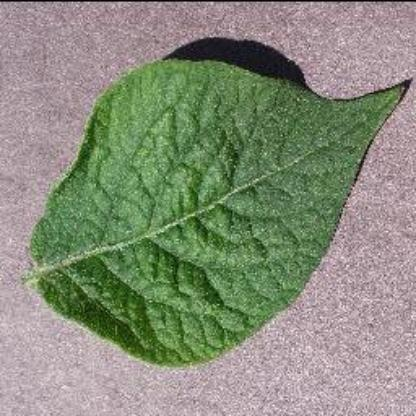Healthy-plant: (16, 46, 410, 370)
